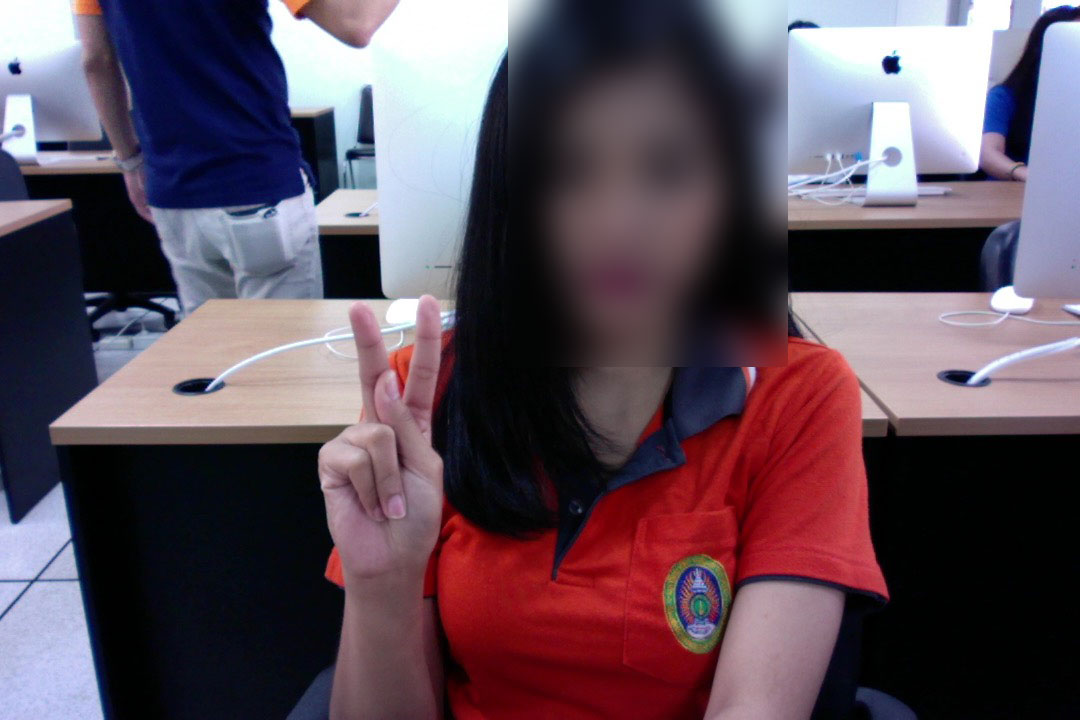ko: (314, 274, 469, 595)
